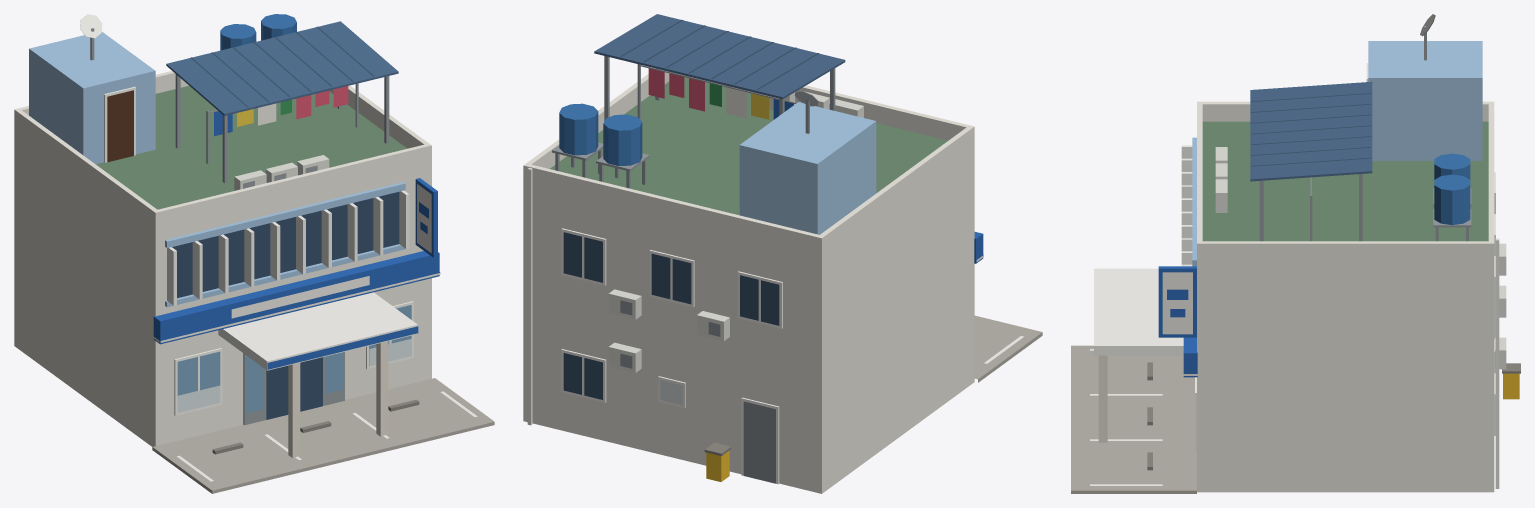
The model's file is toko_03.glb.
The picture shows the model from 3 angles, left to right: view 1: azimuth 30°, elevation 25°; view 2: azimuth 150°, elevation 25°; view 3: azimuth 270°, elevation 25°; orthographic projection. The views are drawn at different scales.
Parts seen in each view (by area): view 1: toko_03; view 2: toko_03; view 3: toko_03.
Boxes of the visible parts, <box> form: toko_03: <box>14,14,494,493</box>; toko_03: <box>523,14,1042,493</box>; toko_03: <box>1071,14,1520,493</box>.
Size of the model in its own units: 9 by 10.39 by 11.8.
